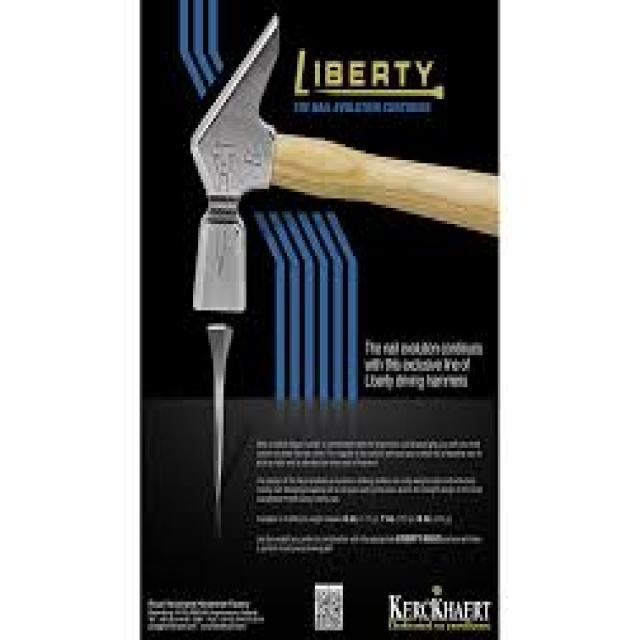hammer: (171, 7, 527, 324)
